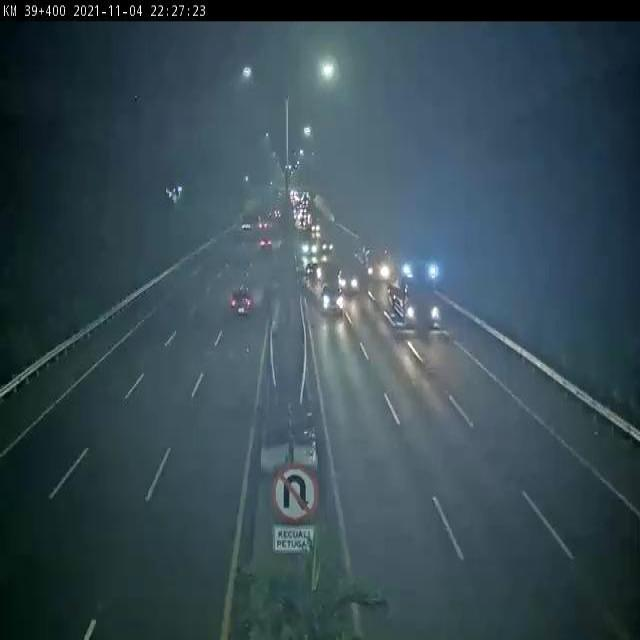car: (230, 286, 256, 318), (320, 280, 343, 313), (337, 267, 356, 289)
mid truck: (305, 258, 321, 278)
truck-l-: (385, 248, 438, 332)
truck-xl-: (358, 243, 388, 280)
